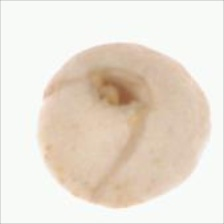L3: (88, 67, 149, 108)
L4: (38, 42, 211, 207)
